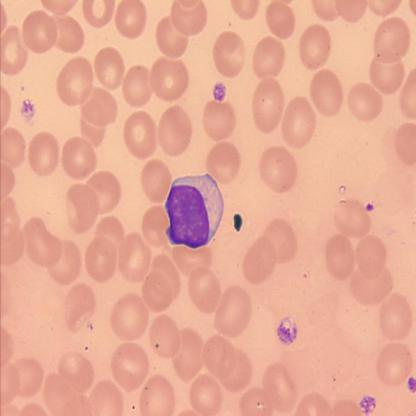Atypical lymphocyte: (161, 170, 227, 251)
